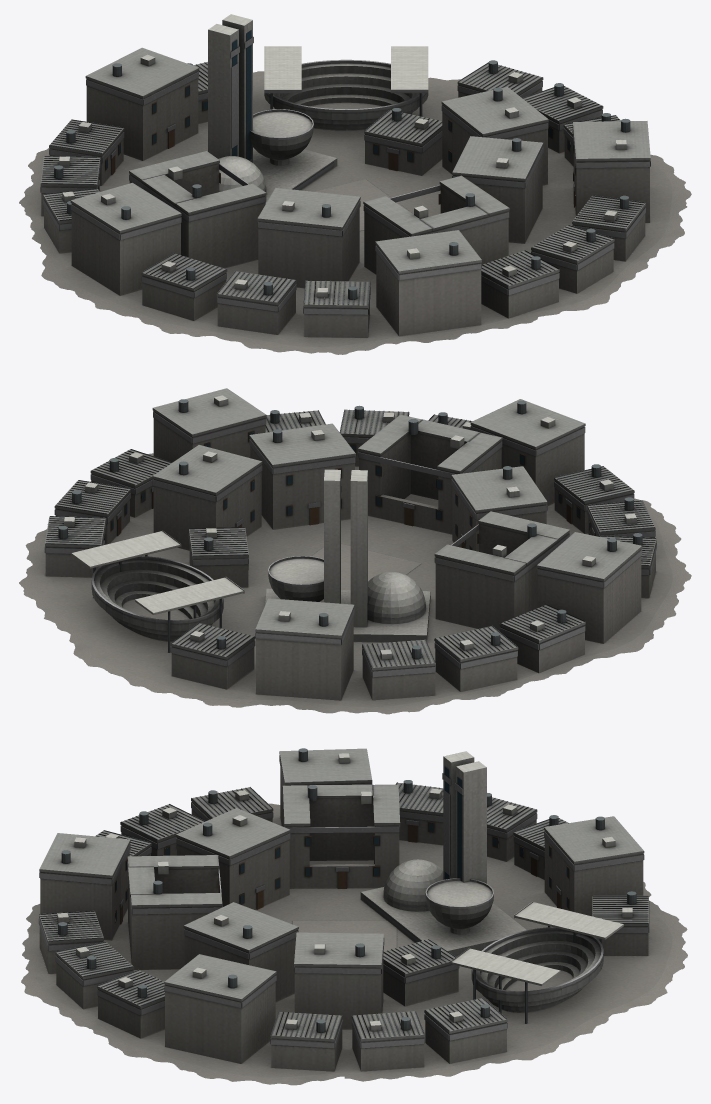
The model's file is modern-town-big-a-americas.glb.
3 renders of one model, top to bottom at view 1: azimuth 30°, elevation 25°; view 2: azimuth 150°, elevation 25°; view 3: azimuth 270°, elevation 25°, orthographic.
Visible parts, largest first — view 1: LOD0; view 2: LOD0; view 3: LOD0.
Part boxes in pixels (x1=…): LOD0: x1=19, y1=14, x2=691, y2=354; LOD0: x1=19, y1=388, x2=691, y2=714; LOD0: x1=21, y1=748, x2=687, y2=1085.
Size of what is drawn, in the model's own units: 8.02 by 2 by 7.91.
Materials: 3 (3 with a texture image).
